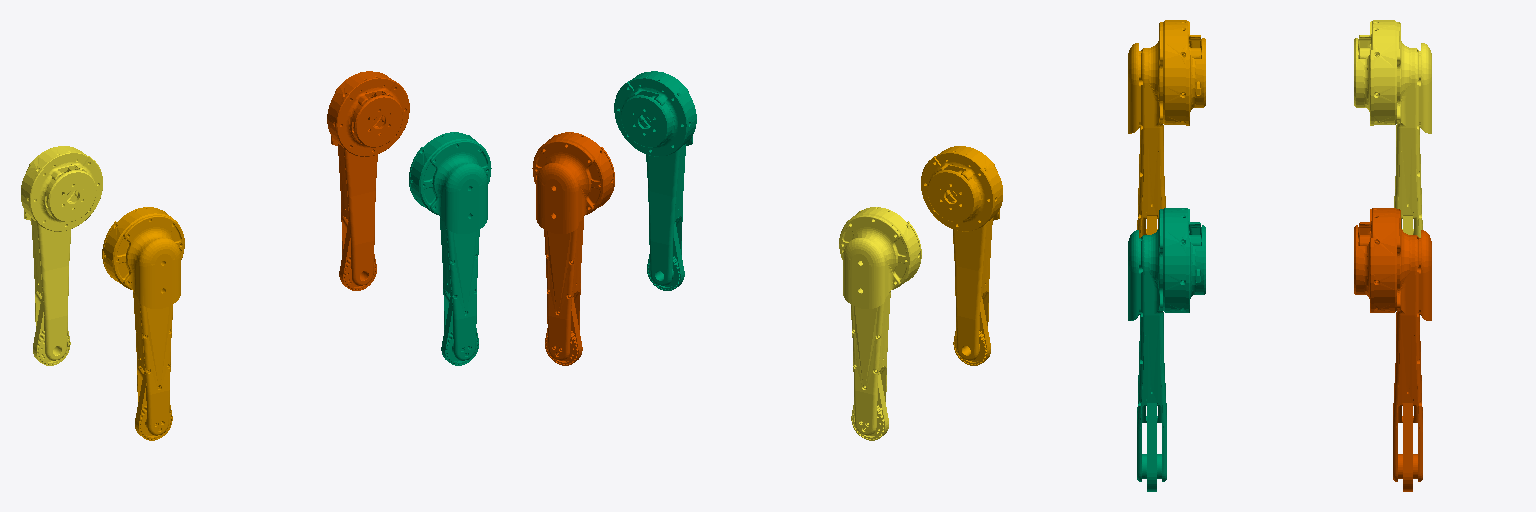
The robot description file, URDF, robot "mini_cheetah":
<?xml version="1.0"?>
<robot name="mini_cheetah" xmlns:xacro="http://ros.org/wiki/xacro">
    <material name="PINK">
        <color rgba="255 0 152 0.5" />
    </material>
    <mujoco>
        <compiler meshdir="./meshes/" balanceinertia="true" discardvisual="false" />
    </mujoco>
    <link name="body">
        <inertial>
            <mass value="3.3" />
            <origin xyz="0.0 0.0 0.0" />
            <inertia ixx="0.011253" ixy="0" ixz="0" iyy="0.362030" iyz="0" izz="0.042673" />
        </inertial>
        <visual>
            <geometry>
                <mesh filename="./meshes/body.stl" />
            </geometry>
            <origin rpy="0.0 0.0 0.0" xyz="0.0 0.0 0.0" />
        </visual>
        <collision>
            <geometry>
                <mesh filename="./meshes/body.stl" />
            </geometry>
            <origin rpy="0 0 0" xyz="0 0 0" />
        </collision>
    </link>

    <!--!!!!!!!!!!!! Front Right Leg !!!!!!!!!!!!!!!!!!!!!!!!!!!!!!!!!!!!-->
    <joint name="torso_to_abduct_fr_j" type="continuous">
        <axis xyz="1 0 0" />
        <origin rpy="0 0 0" xyz="0.14775 -0.049 0.0" />
        <parent link="body" />
        <child link="abduct_fr" />
    </joint>
    <link name="abduct_fr">
        <inertial>
            <mass value="0.54" />
            <origin xyz="0.055 -0.036 0." />
            <inertia ixx="0.000381" ixy="0.000058" ixz="0.00000045"
                iyy="0.000560" iyz="0.00000095" izz="0.000444" />
        </inertial>
        <visual>
            <geometry>
                <mesh filename="./meshes/abad.stl" />
            </geometry>
            <origin rpy="0.0 0.0 0.0" xyz="0.0 0.0 0.0" />
        </visual>
        <collision>
            <geometry>
                <mesh filename="./meshes/abad.stl" />
            </geometry>
            <origin rpy="0. 0. 0." xyz="0. 0 0" />
        </collision>
    </link>

    <joint name="abduct_fr_to_thigh_fr_j" type="continuous">
        <axis xyz="0 -1 0" />
        <origin rpy="0.0 0.0 0.0" xyz="0.055 -0.019 0.00" />
        <parent link="abduct_fr" />
        <child link="thigh_fr" />
    </joint>
    <link name="thigh_fr">
        <inertial>
            <mass value="0.634" />
            <origin xyz="0.0 0.016 -0.02" />
            <inertia ixx="0.001983" ixy="0.000245" ixz="0.000013"
                iyy="0.002103" iyz="0.0000015" izz="0.000408" />
        </inertial>
        <visual>
            <geometry>
                <mesh filename="./meshes/thigh.stl" />
            </geometry>
            <origin rpy="0.0 0.0 0.0" xyz="0.0 0.0 0.0" />
        </visual>
        <collision>
            <geometry>
                <mesh filename="./meshes/thigh.stl" />
            </geometry>
            <origin rpy="0 0 0" xyz="0 0 0" />
        </collision>
    </link>

    <joint name="thigh_fr_to_knee_fr_j" type="continuous">
        <axis xyz="0 -1 0" />
        <origin rpy="0.0 0 0.0" xyz="0.0 -0.049 -0.2085" />
        <parent link="thigh_fr" />
        <child link="shank_fr" />
    </joint>
    <link name="shank_fr">
        <inertial>
            <mass value="0.064" />
            <origin xyz="0.0 0.0 -0.061" />
            <inertia ixx="0.000245" ixy="0" ixz="0.0" iyy="0.000248" iyz="0" izz="0.000006" />
        </inertial>
        <visual>
            <geometry>
                <mesh filename="./meshes/shank.stl" />
            </geometry>
            <origin rpy="0.0 0.0 0.0" xyz="0.0 0.0 0.0" />
        </visual>
        <collision>
            <geometry>
                <mesh filename="./meshes/shank.stl" />
            </geometry>
            <origin rpy="0 0 0" xyz="0 0 0" />
        </collision>
    </link>

    <!--!!!!!!!!!!!! Front Left Leg !!!!!!!!!!!!!!!!!!!!!!!!!!!!!!!!!!!!-->
    <joint name="torso_to_abduct_fl_j" type="continuous">
        <axis xyz="1 0 0" />
        <origin rpy="0 0 0" xyz="0.14775 0.049 0.0" />
        <parent link="body" />
        <child link="abduct_fl" />
    </joint>
    <link name="abduct_fl">
        <inertial>
            <mass value="0.54" />
            <origin xyz="0.055 0.036 0." />
            <inertia ixx="0.000381" ixy="0.000058" ixz="0.00000045"
                iyy="0.000560" iyz="0.00000095" izz="0.000444" />
        </inertial>
        <visual>
            <geometry>
                <mesh filename="./meshes/abad.stl" />
            </geometry>
            <origin rpy="3.141592 0.0 0.0" xyz="0.0 0.0 0.0" />
            <material name="PINK"/>
        </visual>
        <collision>
            <geometry>
                <mesh filename="./meshes/abad.stl" />
            </geometry>
            <origin rpy="3.141592 0. 0." xyz="0. 0 0" />
        </collision>
    </link>

    <joint name="abduct_fl_to_thigh_fl_j" type="continuous">
        <axis xyz="0 1 0" />
        <origin rpy="0.0 0.0 0.0" xyz="0.055 0.019 0.00" />
        <parent link="abduct_fl" />
        <child link="thigh_fl" />
    </joint>
    <link name="thigh_fl">
        <inertial>
            <mass value="0.634" />
            <origin xyz="0.0 0.016 -0.02" />
            <inertia ixx="0.001983" ixy="0.000245" ixz="0.000013"
                iyy="0.002103" iyz="0.0000015" izz="0.000408" />
        </inertial>
        <visual>
            <geometry>
                <mesh filename="./meshes/thigh.stl" />
            </geometry>
            <origin rpy="0.0 0 3.141592" xyz="0.0 0.0 0.0" />
        </visual>
        <collision>
            <geometry>
                <mesh filename="./meshes/thigh.stl" />
            </geometry>
            <origin rpy="0 0 3.141592" xyz="0 0 0" />
        </collision>
    </link>

    <joint name="thigh_fl_to_knee_fl_j" type="continuous">
        <axis xyz="0 1 0" />
        <origin rpy="0.0 0 0.0" xyz="0.0 0.049 -0.2085" />
        <parent link="thigh_fl" />
        <child link="shank_fl" />
    </joint>
    <link name="shank_fl">
        <inertial>
            <mass value="0.064" />
            <origin xyz="0.0 0.0 -0.061" />
            <inertia ixx="0.000245" ixy="0" ixz="0.0" iyy="0.000248" iyz="0" izz="0.000006" />
        </inertial>
        <visual>
            <geometry>
                <mesh filename="./meshes/shank.stl" />
            </geometry>
            <origin rpy="0.0 0.0 3.141592" xyz="0.0 0.0 0.0" />
        </visual>
        <collision>
            <geometry>
                <mesh filename="./meshes/shank.stl" />
            </geometry>
            <origin rpy="0 0 3.141592" xyz="0 0 0" />
        </collision>
    </link>

    <!--!!!!!!!!!!!! Hind Right Leg !!!!!!!!!!!!!!!!!!!!!!!!!!!!!!!!!!!!-->
    <joint name="torso_to_abduct_hr_j" type="continuous">
        <axis xyz="-1 0 0" />
        <origin rpy="0 3.141592 0" xyz="-0.14775 -0.049 0.0" />
        <parent link="body" />
        <child link="abduct_hr" />
    </joint>
    <link name="abduct_hr">
        <inertial>
            <mass value="0.54" />
            <origin xyz="0.055 -0.036 0." />
            <inertia ixx="0.000381" ixy="0.000058" ixz="0.00000045"
                iyy="0.000560" iyz="0.00000095" izz="0.000444" />
        </inertial>
        <visual>
            <geometry>
                <mesh filename="./meshes/abad.stl" />
            </geometry>
            <origin rpy="0.0 0.0 0.0" xyz="0.0 0.0 0.0" />
        </visual>
        <collision>
            <geometry>
                <mesh filename="./meshes/abad.stl" />
            </geometry>
            <origin rpy="0. 0. 0." xyz="0. 0 0" />
        </collision>
    </link>

    <joint name="abduct_hr_to_thigh_hr_j" type="continuous">
        <axis xyz="0 -1 0" />
        <origin rpy="0.0 3.141592 0.0" xyz="0.055 -0.019 0.00" />
        <parent link="abduct_hr" />
        <child link="thigh_hr" />
    </joint>
    <link name="thigh_hr">
        <inertial>
            <mass value="0.634" />
            <origin xyz="0.0 0.016 -0.02" />
            <inertia ixx="0.001983" ixy="0.000245" ixz="0.000013"
                iyy="0.002103" iyz="0.0000015" izz="0.000408" />
        </inertial>
        <visual>
            <geometry>
                <mesh filename="./meshes/thigh.stl" />
            </geometry>
            <origin rpy="0.0 0.0 0.0" xyz="0.0 0.0 0.0" />
        </visual>
        <collision>
            <geometry>
                <mesh filename="./meshes/thigh.stl" />
            </geometry>
            <origin rpy="0 0 0" xyz="0 0 0" />
        </collision>
    </link>

    <joint name="thigh_hr_to_knee_hr_j" type="continuous">
        <axis xyz="0 -1 0" />
        <origin rpy="0.0 0 0.0" xyz="0.0 -0.049 -0.2085" />
        <parent link="thigh_hr" />
        <child link="shank_hr" />
    </joint>
    <link name="shank_hr">
        <inertial>
            <mass value="0.064" />
            <origin xyz="0.0 0.0 -0.061" />
            <inertia ixx="0.000245" ixy="0" ixz="0.0" iyy="0.000248" iyz="0" izz="0.000006" />
        </inertial>
        <visual>
            <geometry>
                <mesh filename="./meshes/shank.stl" />
            </geometry>
            <origin rpy="0.0 0.0 0.0" xyz="0.0 0.0 0.0" />
        </visual>
        <collision>
            <geometry>
                <mesh filename="./meshes/shank.stl" />
            </geometry>
            <origin rpy="0 0 0" xyz="0 0 0" />
        </collision>
    </link>

    <!--!!!!!!!!!!!! Hind Left Leg !!!!!!!!!!!!!!!!!!!!!!!!!!!!!!!!!!!!-->
    <joint name="torso_to_abduct_hl_j" type="continuous">
        <axis xyz="-1 0 0" />
        <origin rpy="0 3.141592 0" xyz="-0.14775 0.049 0.0" />
        <parent link="body" />
        <child link="abduct_hl" />
    </joint>
    <link name="abduct_hl">
        <inertial>
            <mass value="0.54" />
            <origin xyz="0.055 0.036 0." />
            <inertia ixx="0.000381" ixy="0.000058" ixz="0.00000045"
                iyy="0.000560" iyz="0.00000095" izz="0.000444" />
        </inertial>
        <visual>
            <geometry>
                <mesh filename="./meshes/abad.stl" />
            </geometry>
            <origin rpy="3.141592 0.0 0.0" xyz="0.0 0.0 0.0" />
        </visual>
        <collision>
            <geometry>
                <mesh filename="./meshes/abad.stl" />
            </geometry>
            <origin rpy="3.141592 0. 0." xyz="0. 0 0" />
        </collision>
    </link>

    <joint name="abduct_hl_to_thigh_hl_j" type="continuous">
        <axis xyz="0 1 0" />
        <origin rpy="0.0 3.141592 0.0" xyz="0.055 0.019 0.00" />
        <parent link="abduct_hl" />
        <child link="thigh_hl" />
    </joint>
    <link name="thigh_hl">
        <inertial>
            <mass value="0.634" />
            <origin xyz="0.0 0.016 -0.02" />
            <inertia ixx="0.001983" ixy="0.000245" ixz="0.000013"
                iyy="0.002103" iyz="0.0000015" izz="0.000408" />
        </inertial>
        <visual>
            <geometry>
                <mesh filename="./meshes/thigh.stl" />
            </geometry>
            <origin rpy="0.0 0 3.141592" xyz="0.0 0.0 0.0" />
        </visual>
        <collision>
            <geometry>
                <mesh filename="./meshes/thigh.stl" />
            </geometry>
            <origin rpy="0 0 3.141592" xyz="0 0 0" />
        </collision>
    </link>

    <joint name="thigh_hl_to_knee_hl_j" type="continuous">
        <axis xyz="0 1 0" />
        <origin rpy="0.0 0 0.0" xyz="0.0 0.049 -0.2085" />
        <parent link="thigh_hl" />
        <child link="shank_hl" />
    </joint>
    <link name="shank_hl">
        <inertial>
            <mass value="0.064" />
            <origin xyz="0.0 0.0 -0.061" />
            <inertia ixx="0.000245" ixy="0" ixz="0.0" iyy="0.000248" iyz="0" izz="0.000006" />
        </inertial>
        <visual>
            <geometry>
                <mesh filename="./meshes/shank.stl" />
            </geometry>
            <origin rpy="0.0 0.0 3.141592" xyz="0.0 0.0 0.0" />
        </visual>
        <collision>
            <geometry>
                <mesh filename="./meshes/shank.stl" />
            </geometry>
            <origin rpy="0 0 3.141592" xyz="0 0 0" />
        </collision>
    </link>
</robot>

--- What the picture shows (computed from the rendered views, not written in the file) ---
The picture shows the robot from 3 angles, left to right: view 1: azimuth 30°, elevation 25°; view 2: azimuth 150°, elevation 25°; view 3: azimuth 270°, elevation 25°; orthographic projection.
Robot: mini_cheetah — 13 links, 12 joints (12 continuous); root link body; default pose: every joint at zero.
Visible links, largest first — view 1: thigh_fr, thigh_hr, thigh_hl, thigh_fl; view 2: thigh_fl, thigh_hl, thigh_hr, thigh_fr; view 3: thigh_fr, thigh_fl, thigh_hr, thigh_hl.
Link boxes in pixels (bbox=[...]): thigh_fr: bbox=[409, 132, 491, 365]; thigh_hr: bbox=[102, 207, 184, 440]; thigh_hl: bbox=[21, 146, 102, 365]; thigh_fl: bbox=[327, 71, 409, 290]; thigh_fl: bbox=[532, 132, 614, 365]; thigh_hl: bbox=[839, 207, 921, 440]; thigh_hr: bbox=[921, 146, 1002, 365]; thigh_fr: bbox=[614, 71, 696, 290]; thigh_fr: bbox=[1128, 208, 1205, 491]; thigh_fl: bbox=[1354, 208, 1431, 491]; thigh_hr: bbox=[1128, 20, 1205, 237]; thigh_hl: bbox=[1354, 20, 1431, 237].
Size in the robot's own frame: 0.503 by 0.2785 by 0.2789 metres.
Meshes: 4 distinct files referenced, 4 mesh visuals loaded (1 binary STL); not drawn: 9 (file found but could not be loaded).